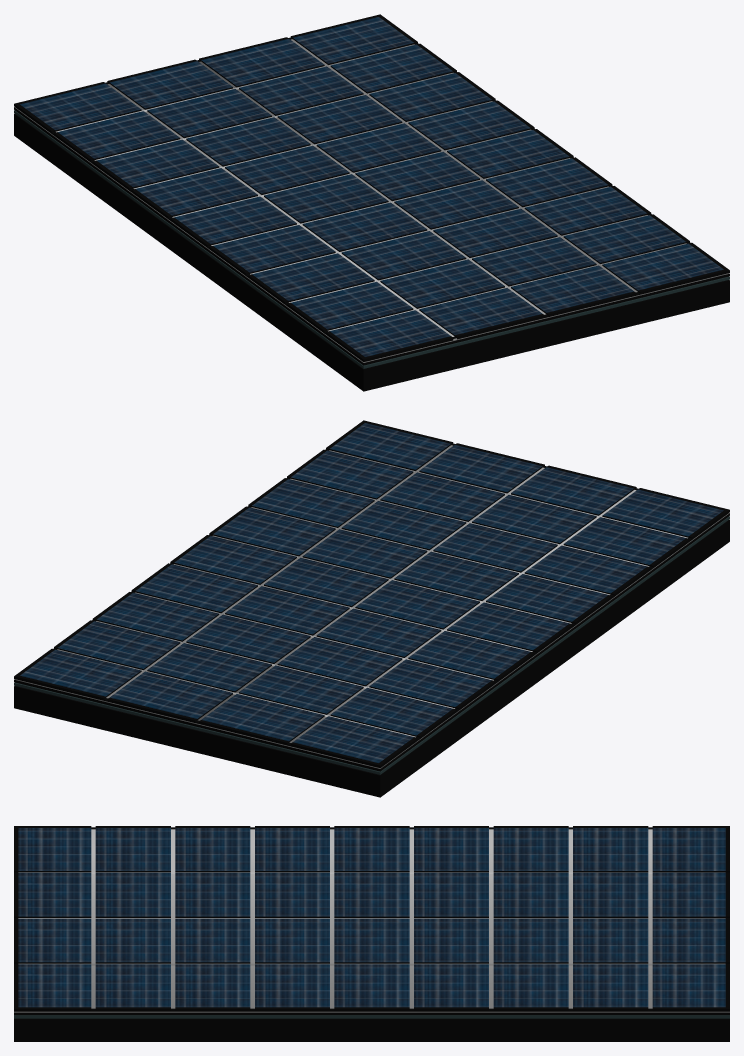
File: Celda Solar_Mini.glb
The picture shows the model from 3 angles, top to bottom: view 1: azimuth 30°, elevation 25°; view 2: azimuth 150°, elevation 25°; view 3: azimuth 270°, elevation 25°; orthographic projection. The views are drawn at different scales.
Parts seen in each view (by area): view 1: Cube.003; view 2: Cube.003; view 3: Cube.003.
Boxes of the visible parts, box(x1,y1,x2,y2) form: Cube.003: box(14, 14, 729, 391); Cube.003: box(14, 420, 729, 797); Cube.003: box(14, 826, 729, 1041).
Bounding box in the file's own units: 0.0992 × 0.00827 × 0.164.
Materials: 4 (3 with a texture image).
